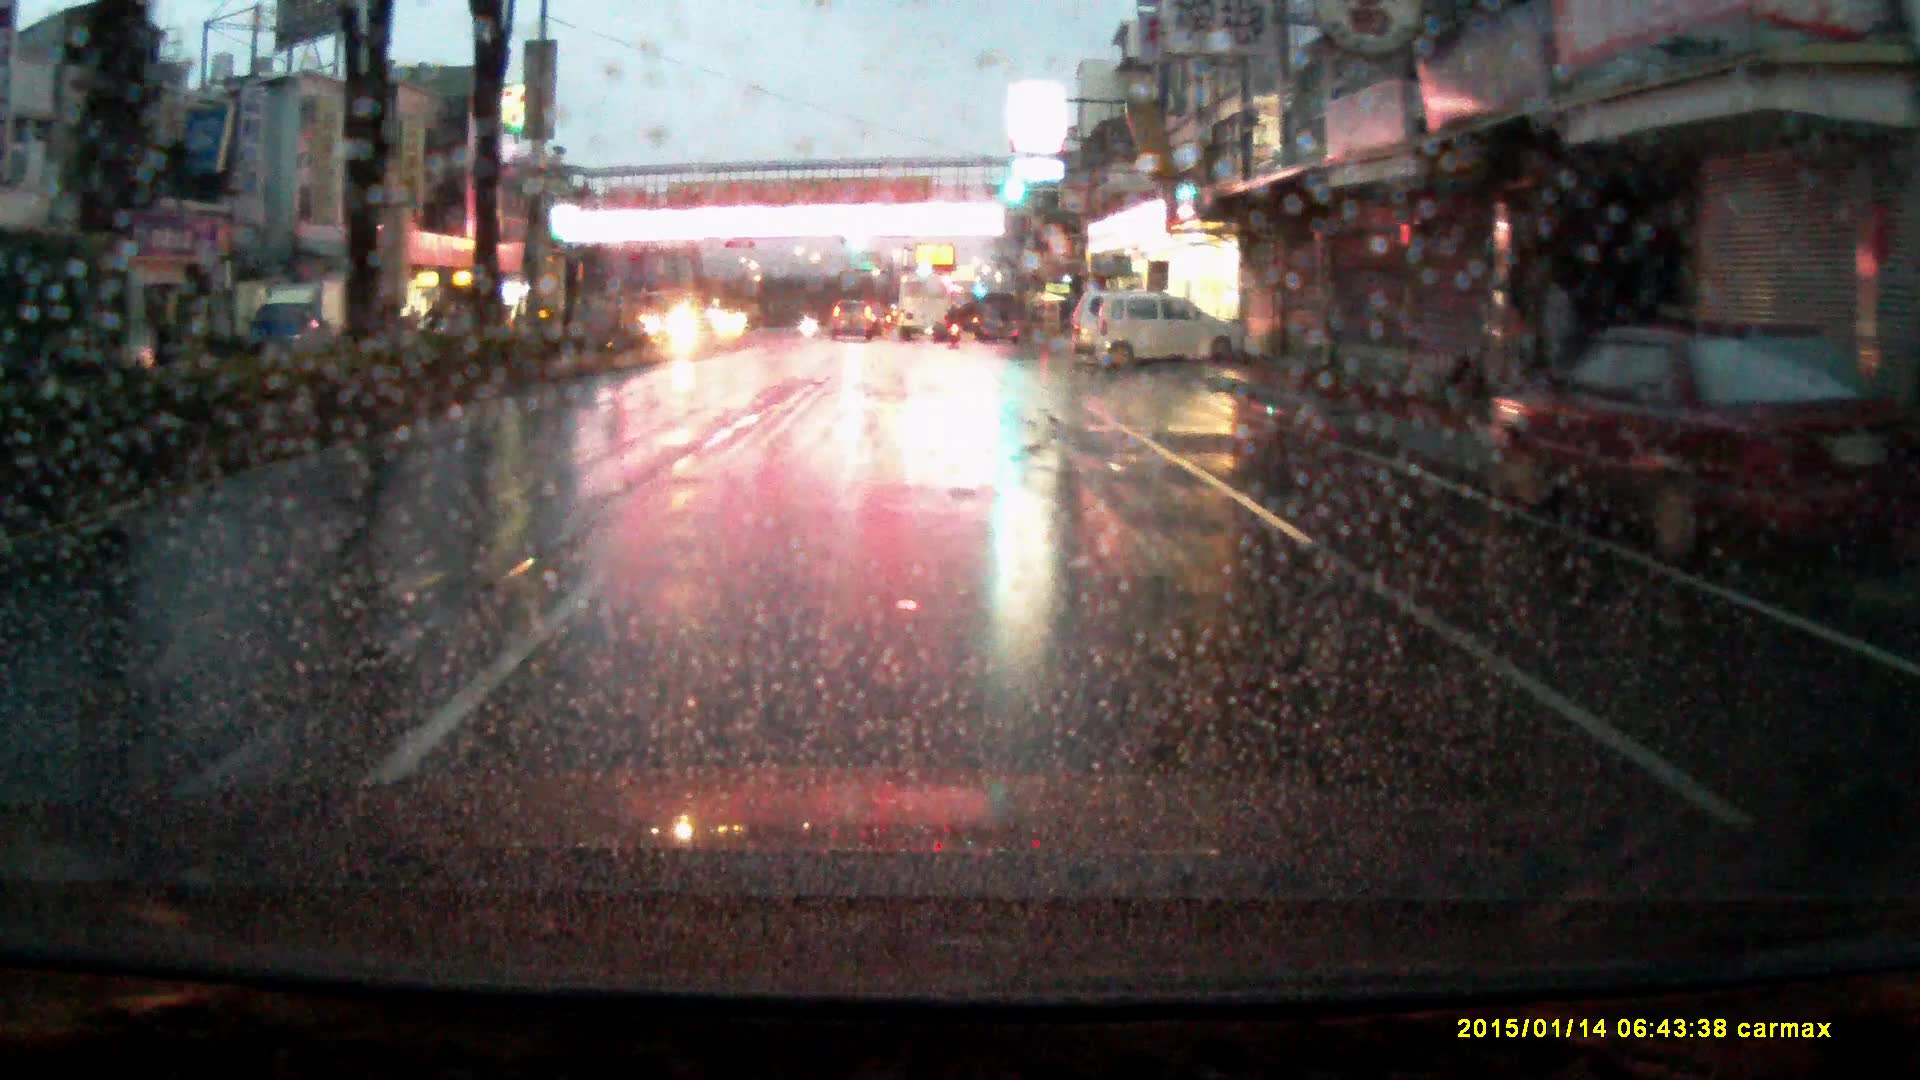rider: (944, 304, 964, 350)
vehicle: (1485, 319, 1920, 572), (1090, 292, 1252, 376), (252, 286, 350, 357), (1069, 291, 1148, 358), (898, 276, 951, 345), (646, 291, 711, 342), (830, 299, 877, 343)
